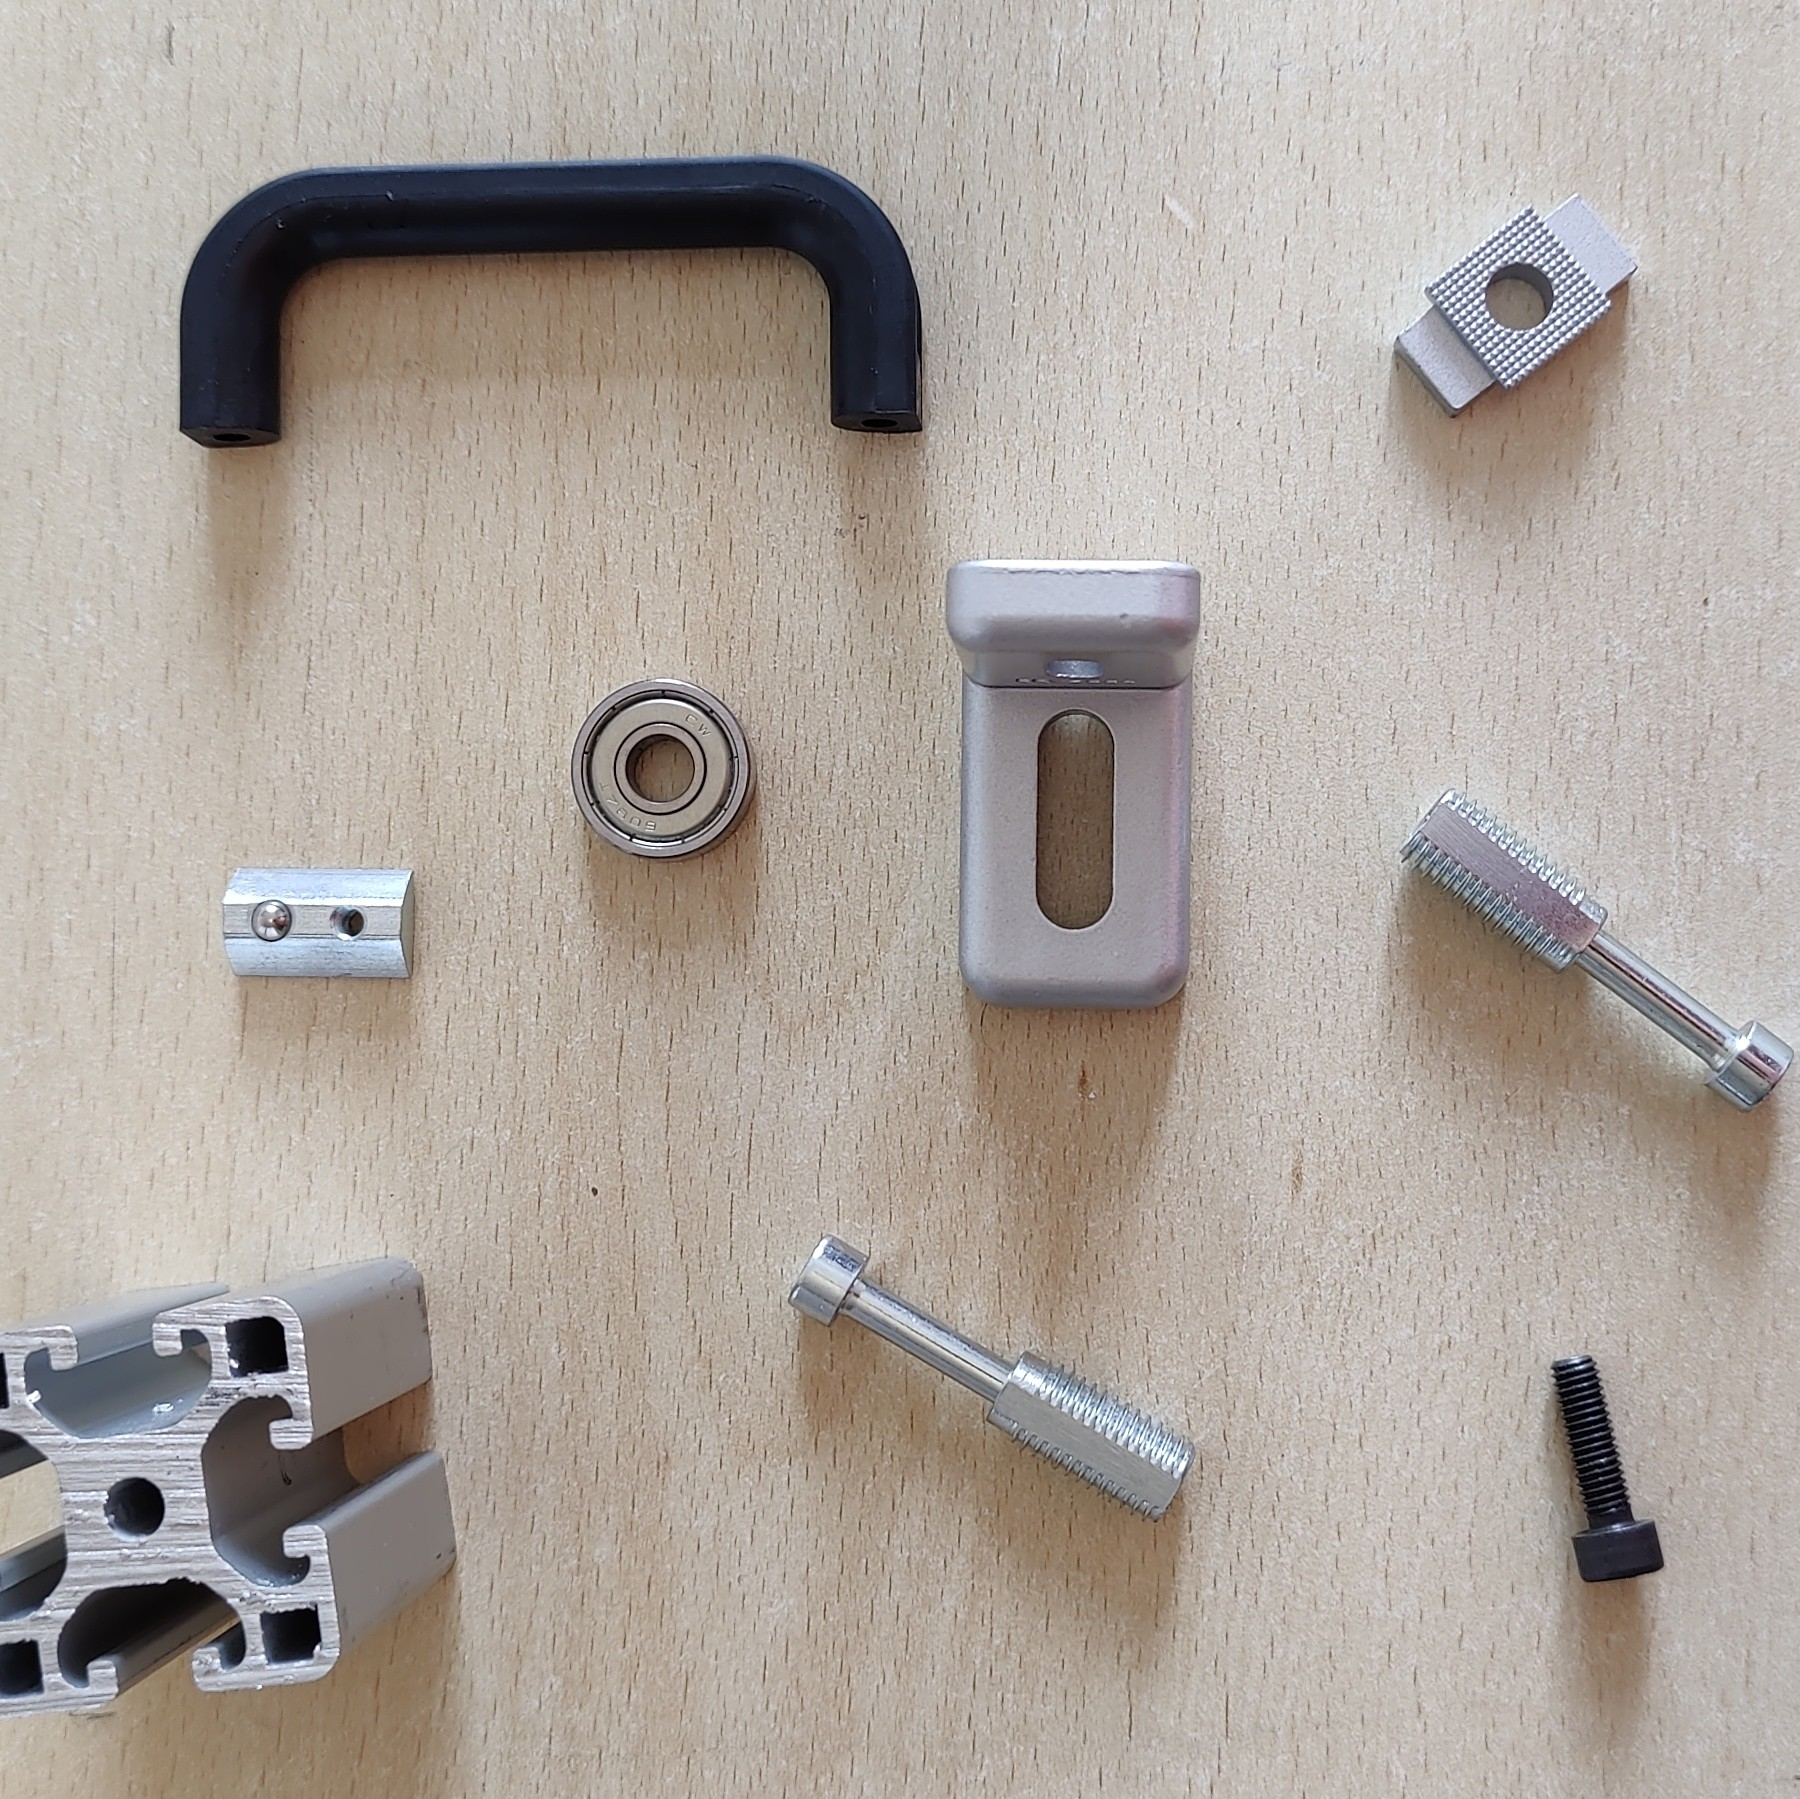Aluminium Extension: (2, 1254, 461, 1718)
Ball Bearing: (570, 674, 759, 867)
Multiwinkel: (944, 552, 1204, 1015)
Pull Handle: (175, 150, 927, 451)
Shoulder Socket Head Cap Screw: (1397, 784, 1798, 1114), (782, 1231, 1197, 1526)
Socket Head Cap Screw: (1548, 1349, 1667, 1585)
T Nut Square: (1392, 193, 1639, 423)
T Spring Nut: (217, 858, 420, 987)
